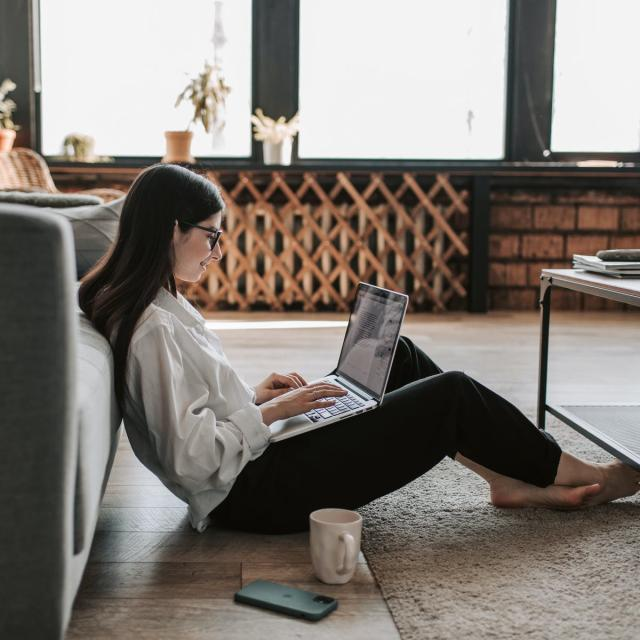nonfall: (67, 152, 633, 522)
